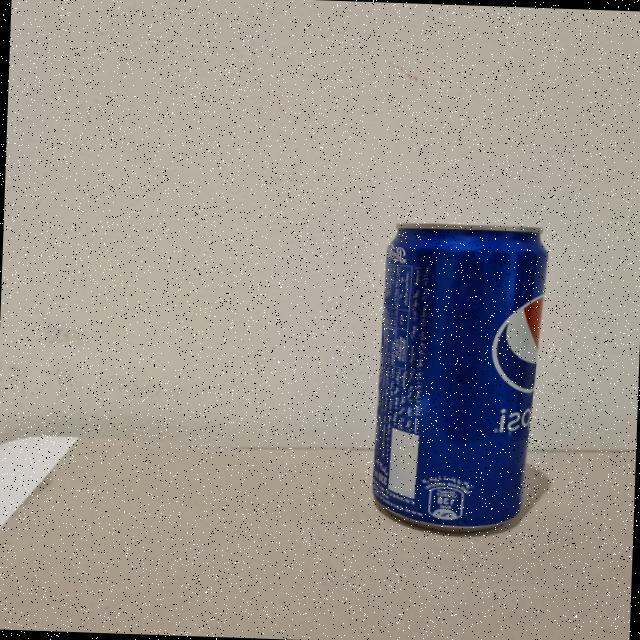debris: (362, 216, 552, 538)
